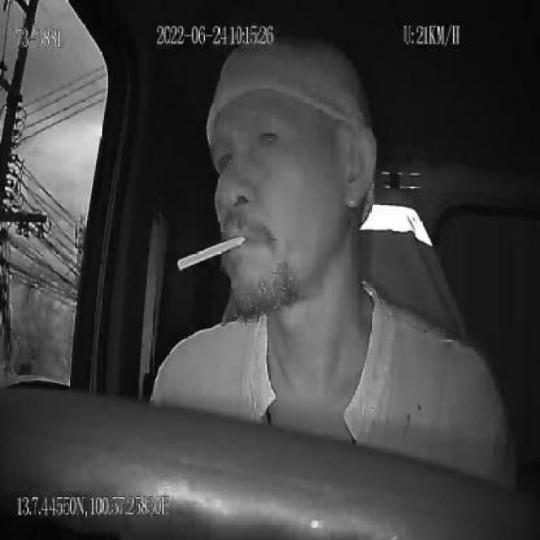smoking: (177, 231, 245, 271)
